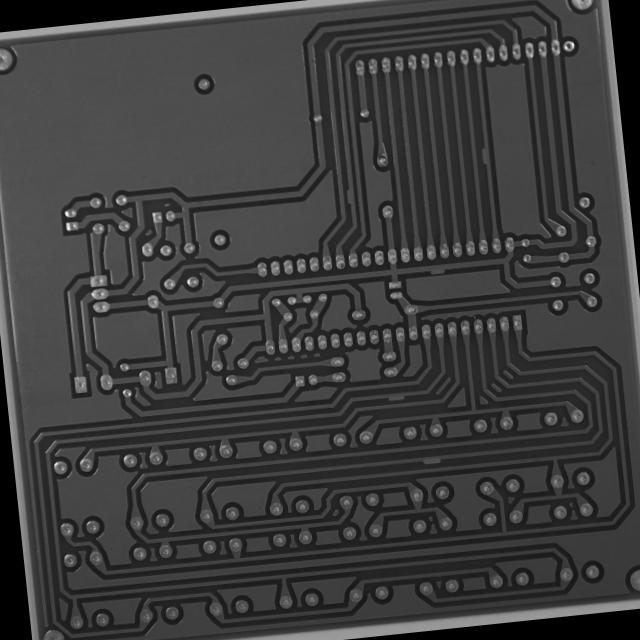spur: (416, 451, 446, 469), (476, 144, 492, 167), (424, 259, 447, 275), (384, 389, 406, 404), (342, 185, 356, 205)
